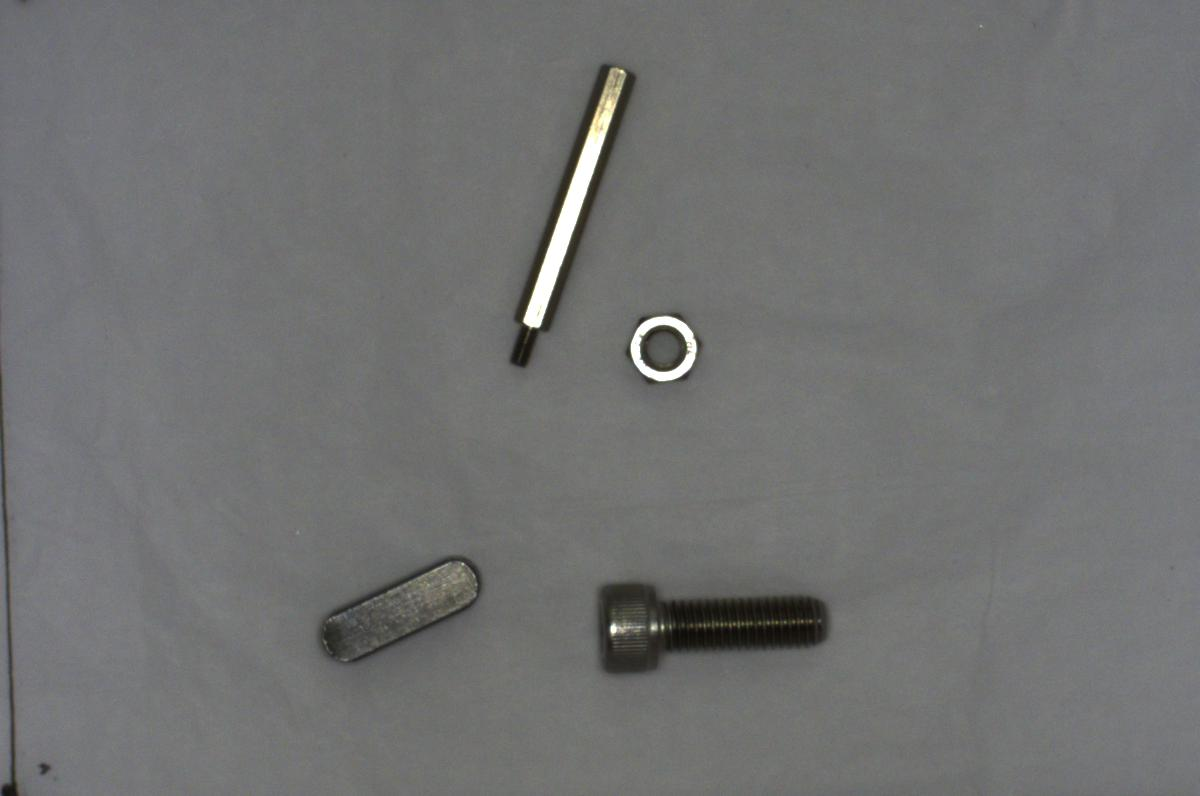Hexagon nut: (621, 303, 710, 389)
Hexagon screw: (580, 574, 845, 681)
Hexagonal steel column: (490, 54, 632, 375)
Keybar: (317, 553, 487, 673)
